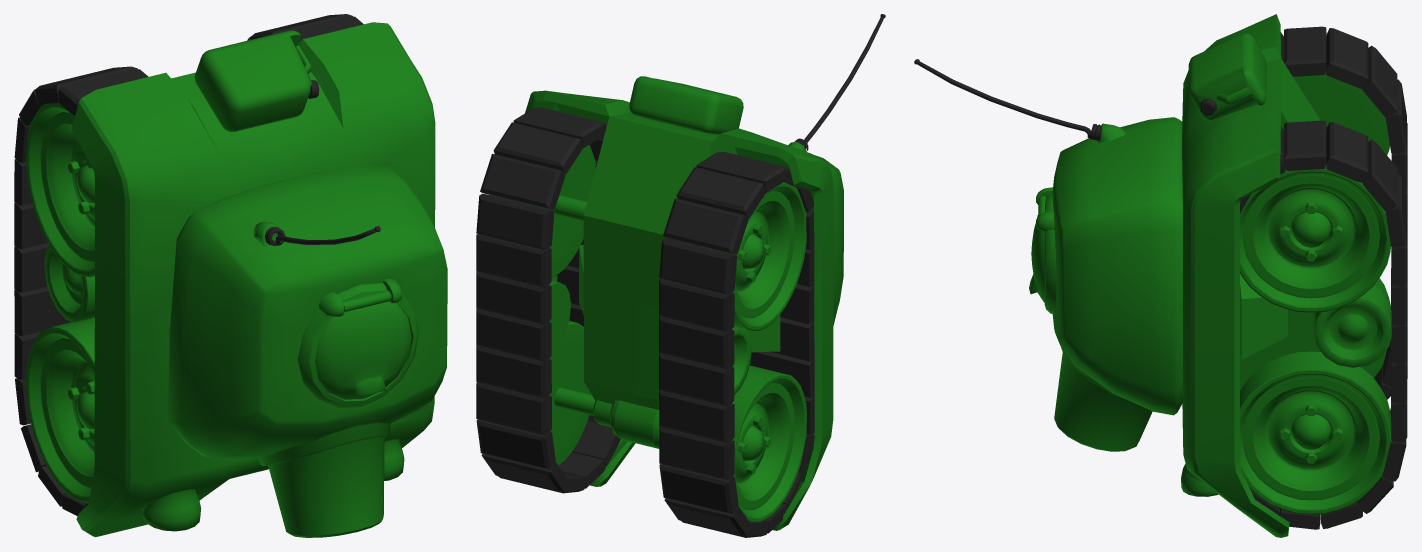
File: Tank.obj
The picture shows the model from 3 angles, left to right: view 1: azimuth 30°, elevation 25°; view 2: azimuth 150°, elevation 25°; view 3: azimuth 270°, elevation 25°; orthographic projection. The views are drawn at different scales.
Parts seen in each view (by area): view 1: TankChassis, TankTurret, TankTracksRight, TankTracksLeft; view 2: TankTracksRight, TankChassis, TankTracksLeft, TankTurret; view 3: TankTracksLeft, TankChassis, TankTurret, TankTracksRight.
Boxes of the visible parts, left/top/right/bottom form: TankChassis: left=44, top=22, right=435, bottom=537; TankTurret: left=167, top=166, right=447, bottom=537; TankTracksRight: left=14, top=66, right=148, bottom=515; TankTracksLeft: left=247, top=14, right=363, bottom=41; TankTracksRight: left=659, top=151, right=814, bottom=537; TankChassis: left=525, top=76, right=833, bottom=530; TankTracksLeft: left=476, top=107, right=620, bottom=493; TankTurret: left=788, top=14, right=885, bottom=325; TankTracksLeft: left=1240, top=120, right=1407, bottom=529; TankChassis: left=1181, top=14, right=1391, bottom=537; TankTurret: left=914, top=59, right=1182, bottom=451; TankTracksRight: left=1280, top=26, right=1407, bottom=399.
Size of the model in its own units: 170 by 237 by 249.
